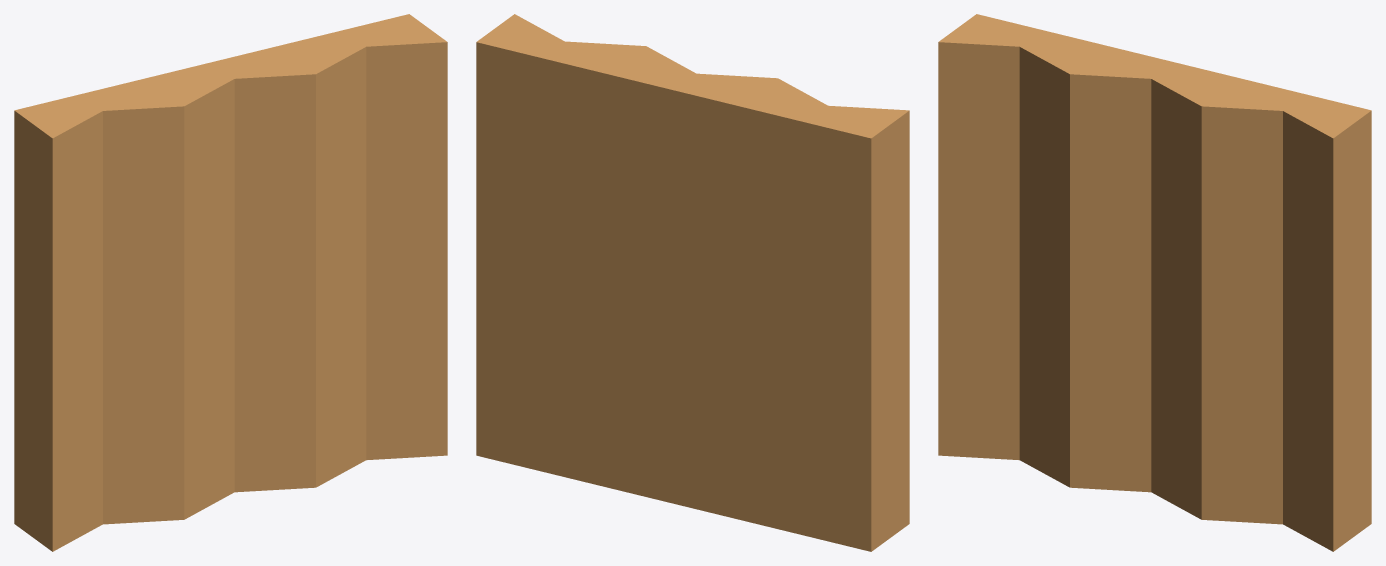
Rendered from cliff-wall.glb.
3 renders of one model, left to right at view 1: azimuth 30°, elevation 25°; view 2: azimuth 150°, elevation 25°; view 3: azimuth 330°, elevation 25°, orthographic.
Parts seen in each view (by area): view 1: cliff_rock; view 2: cliff_rock; view 3: cliff_rock.
Boxes of the visible parts, x1,y1,x2,y2 form: cliff_rock: [14, 14, 447, 551]; cliff_rock: [476, 14, 909, 551]; cliff_rock: [938, 14, 1371, 551].
Size of the model in its own units: 4 by 4 by 0.6738.
